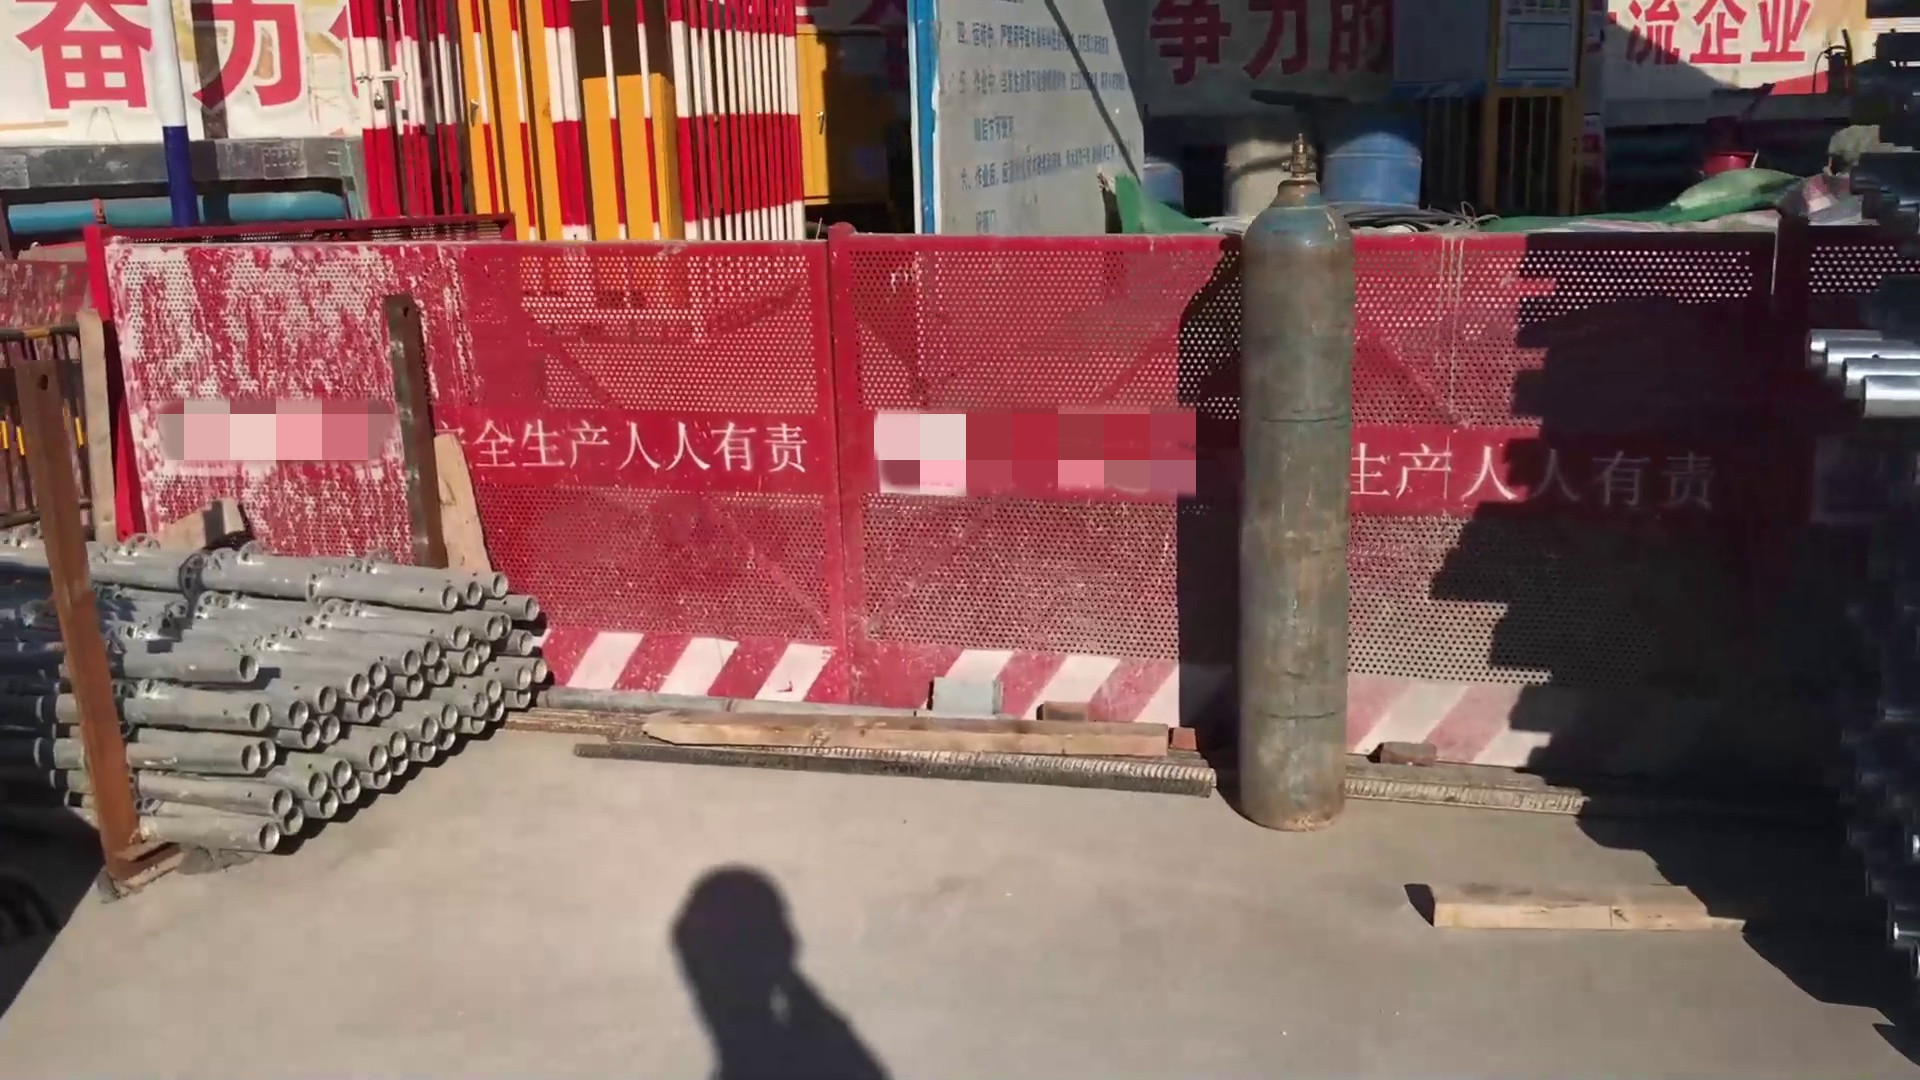fence: (1365, 229, 1797, 781), (88, 229, 827, 534), (835, 239, 1240, 733), (364, 1, 827, 222)
scaffold: (1, 537, 559, 862), (1801, 322, 1920, 414)
